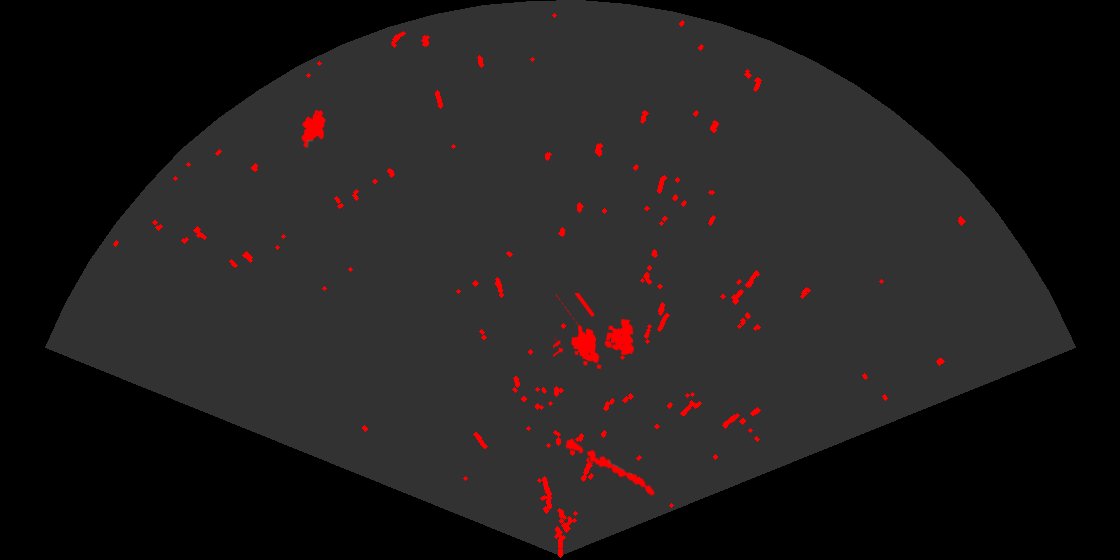AUV: (300, 108, 327, 149)
cage: (553, 293, 636, 371)
chain: (564, 437, 657, 497)
